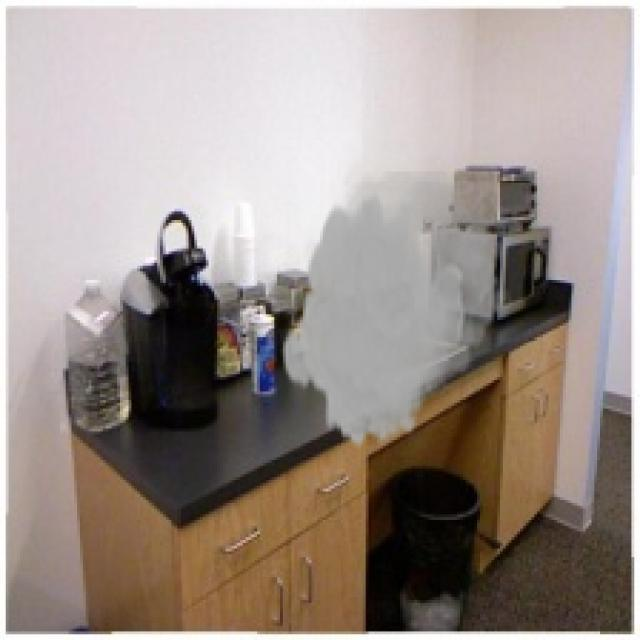Smoke: (280, 172, 514, 452)
